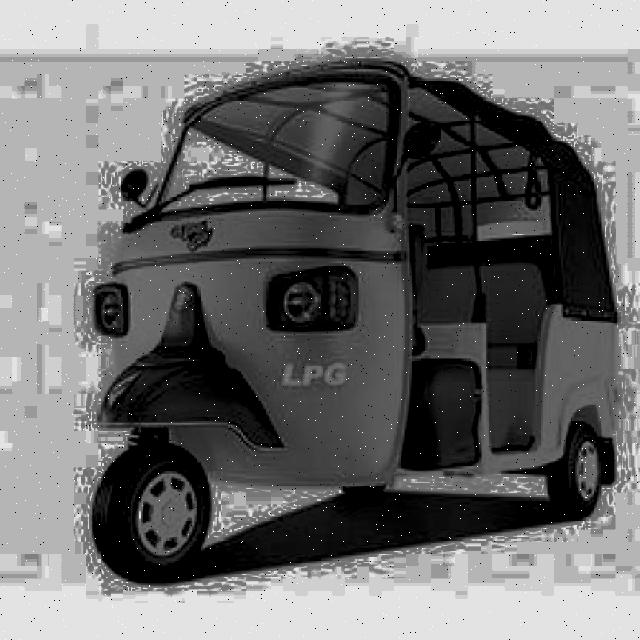Auto-Rickshaw: (85, 54, 622, 581)
